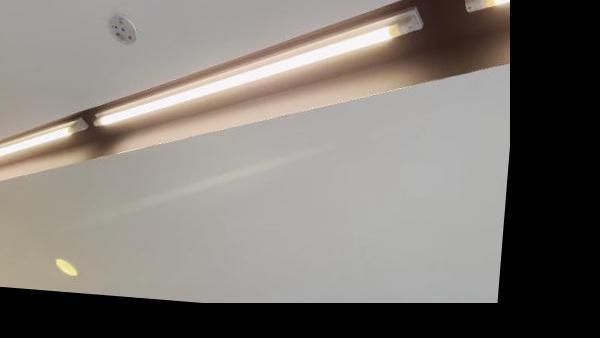light_on: (84, 0, 440, 161), (0, 77, 85, 191), (453, 0, 522, 24)
